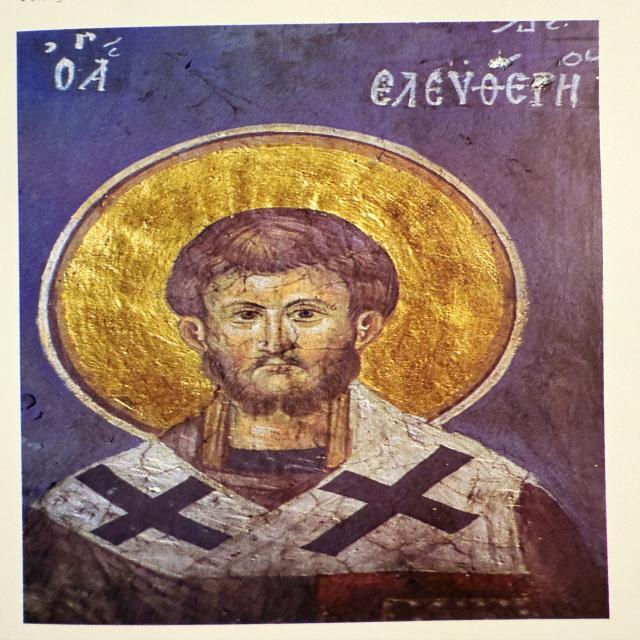aura: (40, 125, 532, 448)
church_father: (36, 127, 603, 618)
